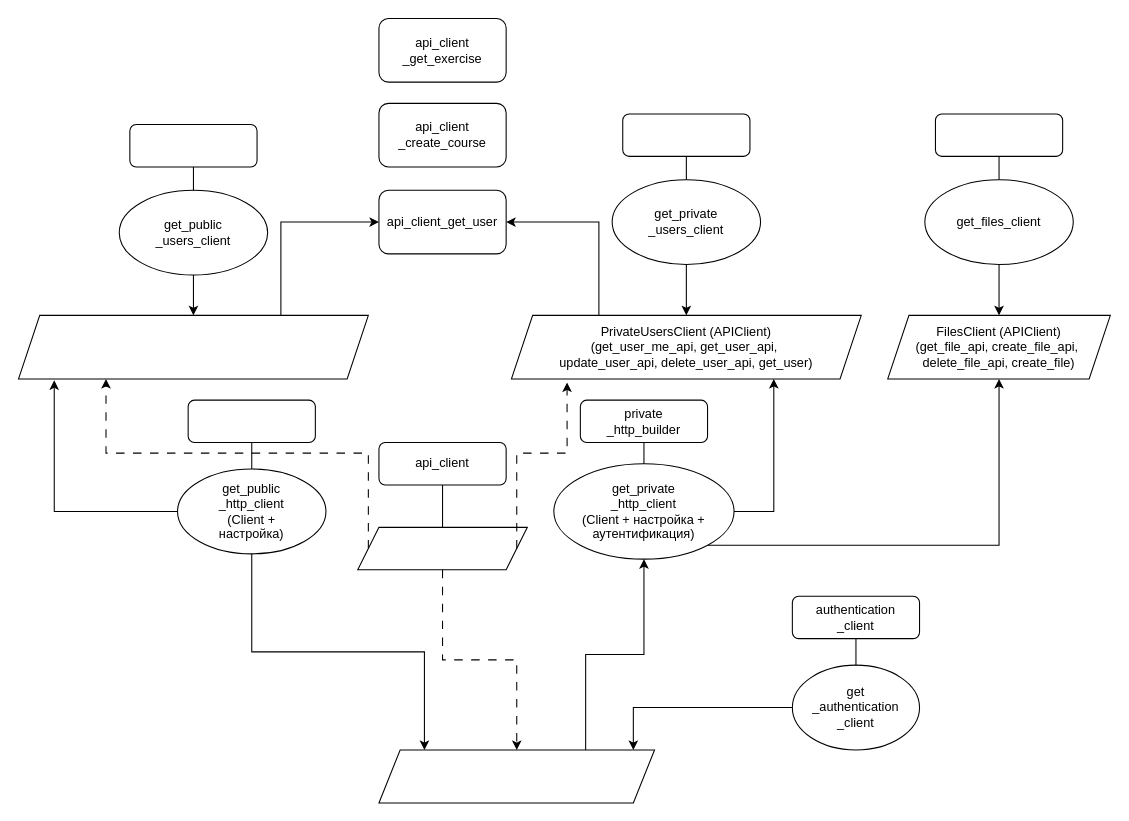
This 1129x821 diagram has some shape labels left out. The shapes that lost their labels are listed below. From the top down, each one's box as (x1, y1, x2, y2) in pixels, then its label:
(129, 123, 257, 167): public _users_client
(622, 113, 750, 156): private _users_client
(934, 113, 1063, 156): files_client
(17, 314, 368, 379): PublicUsersClient (APIClient) (create_user_api, create_user)
(187, 399, 315, 443): public _http_builder
(357, 526, 527, 570): APIClient ( get, post, patch, delete)
(378, 749, 655, 803): AuthenticationClient (APIClient) (login_api, refresh_api, login)
